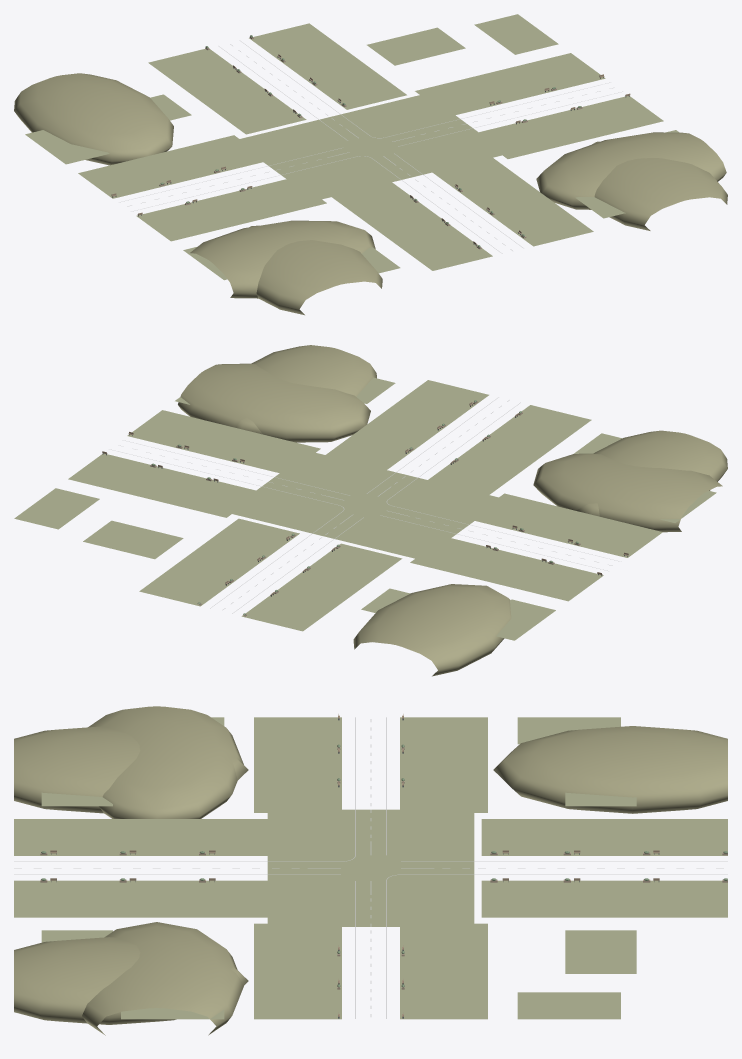
3 views of the same model, one above another, from view 1: azimuth 30°, elevation 25°; view 2: azimuth 150°, elevation 25°; view 3: azimuth 270°, elevation 25° (orthographic). The views are drawn at different scales.
Parts seen in each view (by area): view 1: static; view 2: static; view 3: static.
Boxes of the visible parts, x1,y1,x2,y2 form: static: [14, 14, 727, 315]; static: [14, 345, 727, 676]; static: [14, 706, 727, 1035].
Size of what is drawn, in the model's own units: 180 by 14.08 by 180.
